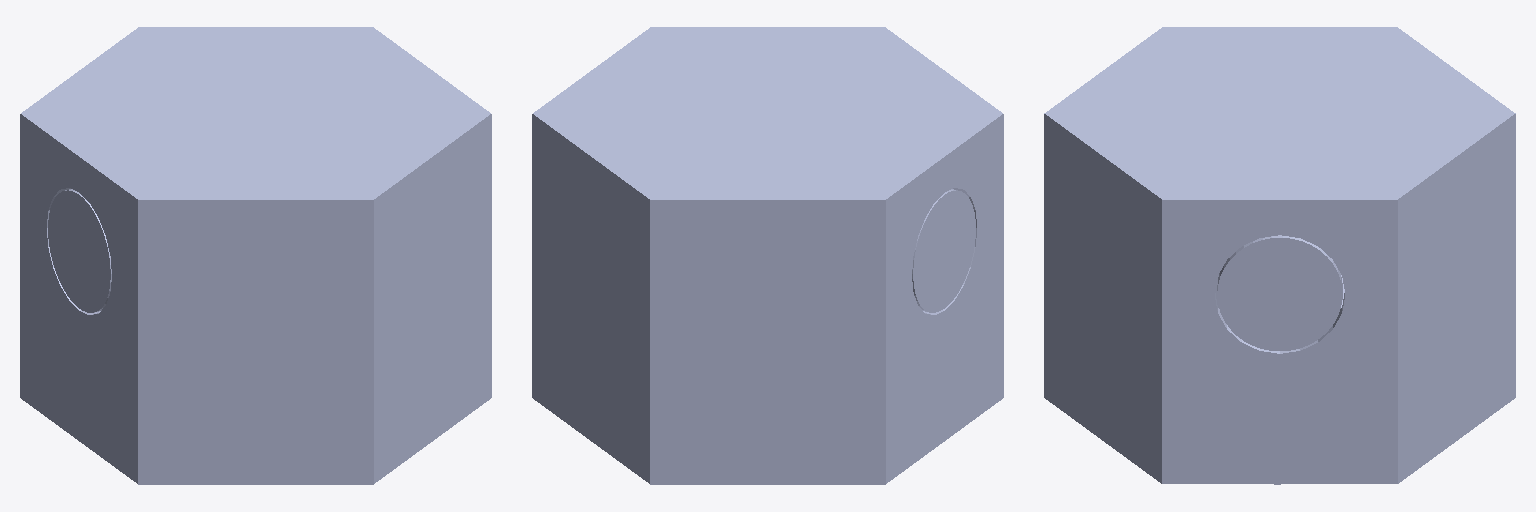
The robot description file, URDF, robot "Assem1.SLDASM":
<?xml version="1.0" encoding="utf-8"?>
<!-- This URDF was automatically created by SolidWorks to URDF Exporter! Originally created by Stephen Brawner (brawner@gmail.com) 
     Commit Version: 1.6.0-4-g7f85cfe  Build Version: 1.6.7995.38578
     For more information, please see http://wiki.ros.org/sw_urdf_exporter -->
<robot
  name="Assem1.SLDASM">
  <link
    name="base_link">
    <inertial>
      <origin
        xyz="-0.0389711431702996 -0.0357941197648907 0.0361229163502598"
        rpy="0 0 0" />
      <mass
        value="0.0574273352835146" />
      <inertia
        ixx="6.36405788919989E-05"
        ixy="-6.38209771093117E-20"
        ixz="-1.03933955422549E-20"
        iyy="5.98381182947465E-05"
        iyz="-3.76352627981E-21"
        izz="7.86534273855988E-05" />
    </inertial>
    <visual>
      <origin
        xyz="0 0 0"
        rpy="0 0 0" />
      <geometry>
        <mesh
          filename="package://Assem1.SLDASM/meshes/base_link.STL" />
      </geometry>
      <material
        name="">
        <color
          rgba="0.792156862745098 0.819607843137255 0.933333333333333 1" />
      </material>
    </visual>
    <collision>
      <origin
        xyz="0 0 0"
        rpy="0 0 0" />
      <geometry>
        <mesh
          filename="package://Assem1.SLDASM/meshes/base_link.STL" />
      </geometry>
    </collision>
  </link>
  <link
    name="wheel_link_1">
    <inertial>
      <origin
        xyz="1.01307850997046E-15 7.59808882477842E-16 -0.0122203174661168"
        rpy="0 0 0" />
      <mass
        value="0.0322480558900175" />
      <inertia
        ixx="5.00664219138574E-06"
        ixy="-2.36335127109963E-36"
        ixz="1.25338250291476E-20"
        iyy="5.00664219138573E-06"
        iyz="-3.79849766000684E-22"
        izz="6.79644492136784E-06" />
    </inertial>
    <visual>
      <origin
        xyz="0 0 0"
        rpy="0 0 0" />
      <geometry>
        <mesh
          filename="package://Assem1.SLDASM/meshes/wheel_link_1.STL" />
      </geometry>
      <material
        name="">
        <color
          rgba="0.792156862745098 0.819607843137255 0.933333333333333 1" />
      </material>
    </visual>
    <collision>
      <origin
        xyz="0 0 0"
        rpy="0 0 0" />
      <geometry>
        <mesh
          filename="package://Assem1.SLDASM/meshes/wheel_link_1.STL" />
      </geometry>
    </collision>
  </link>
  <joint
    name="wheel_joint_1"
    type="continuous">
    <origin
      xyz="-0.0504422863405982 -0.0357941197648905 0.019"
      rpy="-1.5707963267949 0 -1.5707963267949" />
    <parent
      link="base_link" />
    <child
      link="wheel_link_1" />
    <axis
      xyz="0 0 1" />
  </joint>
  <link
    name="connector_link_1">
    <inertial>
      <origin
        xyz="6.93889390390723E-18 -6.93889390390723E-18 -0.00150000000000017"
        rpy="0 0 0" />
      <mass
        value="0.00135716802635079" />
      <inertia
        ixx="4.98759249683916E-08"
        ixy="-6.35011624377447E-38"
        ixz="-3.36917686260086E-22"
        iyy="4.98759249683916E-08"
        iyz="9.07578526150396E-24"
        izz="9.77160978972571E-08" />
    </inertial>
    <visual>
      <origin
        xyz="0 0 0"
        rpy="0 0 0" />
      <geometry>
        <mesh
          filename="package://Assem1.SLDASM/meshes/connector_link_1.STL" />
      </geometry>
      <material
        name="">
        <color
          rgba="0.792156862745098 0.819607843137255 0.933333333333333 1" />
      </material>
    </visual>
    <collision>
      <origin
        xyz="0 0 0"
        rpy="0 0 0" />
      <geometry>
        <mesh
          filename="package://Assem1.SLDASM/meshes/connector_link_1.STL" />
      </geometry>
    </collision>
  </link>
  <joint
    name="connector_joint_1"
    type="continuous">
    <origin
      xyz="-0.0749422863405991 -0.0357941197648905 0.04"
      rpy="1.5707963267949 0 1.5707963267949" />
    <parent
      link="base_link" />
    <child
      link="connector_link_1" />
    <axis
      xyz="0 0 1" />
  </joint>
  <link
    name="connector_link_2">
    <inertial>
      <origin
        xyz="2.77555756156289E-17 -6.93889390390723E-18 -0.0015"
        rpy="0 0 0" />
      <mass
        value="0.00135716802635079" />
      <inertia
        ixx="4.98759249683916E-08"
        ixy="-1.24412434361125E-37"
        ixz="-6.55663503485308E-22"
        iyy="4.98759249683916E-08"
        iyz="9.075785261504E-24"
        izz="9.7716097897257E-08" />
    </inertial>
    <visual>
      <origin
        xyz="0 0 0"
        rpy="0 0 0" />
      <geometry>
        <mesh
          filename="package://Assem1.SLDASM/meshes/connector_link_2.STL" />
      </geometry>
      <material
        name="">
        <color
          rgba="0.792156862745098 0.819607843137255 0.933333333333333 1" />
      </material>
    </visual>
    <collision>
      <origin
        xyz="0 0 0"
        rpy="0 0 0" />
      <geometry>
        <mesh
          filename="package://Assem1.SLDASM/meshes/connector_link_2.STL" />
      </geometry>
    </collision>
  </link>
  <joint
    name="connector_joint_2"
    type="continuous">
    <origin
      xyz="0 -0.0357941197648913 0.04"
      rpy="1.5707963267949 0 1.5707963267949" />
    <parent
      link="base_link" />
    <child
      link="connector_link_2" />
    <axis
      xyz="0 0 1" />
  </joint>
  <link
    name="wheel_link_2">
    <inertial>
      <origin
        xyz="6.93889390390723E-18 -3.46944695195361E-18 -0.0122796825338838"
        rpy="0 0 0" />
      <mass
        value="0.0322480558900175" />
      <inertia
        ixx="5.00664219138574E-06"
        ixy="-3.96777558778301E-37"
        ixz="2.53003015816238E-22"
        iyy="5.00664219138573E-06"
        iyz="3.79849766000682E-22"
        izz="6.79644492136784E-06" />
    </inertial>
    <visual>
      <origin
        xyz="0 0 0"
        rpy="0 0 0" />
      <geometry>
        <mesh
          filename="package://Assem1.SLDASM/meshes/wheel_link_2.STL" />
      </geometry>
      <material
        name="">
        <color
          rgba="0.792156862745098 0.819607843137255 0.933333333333333 1" />
      </material>
    </visual>
    <collision>
      <origin
        xyz="0 0 0"
        rpy="0 0 0" />
      <geometry>
        <mesh
          filename="package://Assem1.SLDASM/meshes/wheel_link_2.STL" />
      </geometry>
    </collision>
  </link>
  <joint
    name="wheel_joint_2"
    type="continuous">
    <origin
      xyz="-0.00300000000000001 -0.0357941197648908 0.019"
      rpy="1.5707963267949 0 1.5707963267949" />
    <parent
      link="base_link" />
    <child
      link="wheel_link_2" />
    <axis
      xyz="0 0 1" />
  </joint>
</robot>

--- What the picture shows (computed from the rendered views, not written in the file) ---
The picture shows the robot from 3 angles, left to right: view 1: azimuth 30°, elevation 25°; view 2: azimuth 150°, elevation 25°; view 3: azimuth 270°, elevation 25°; orthographic projection.
Robot: Assem1.SLDASM — 5 links, 4 joints (4 continuous); root link base_link; default pose: all joints at 0.
Visible links, largest first — view 1: base_link, connector_link_1; view 2: base_link, connector_link_1; view 3: base_link, connector_link_2.
Link boxes in pixels (x1,y1,x2,y2): base_link: [20, 27, 491, 484]; connector_link_1: [48, 189, 111, 312]; base_link: [532, 27, 1003, 484]; connector_link_1: [912, 189, 975, 312]; base_link: [1044, 27, 1515, 483]; connector_link_2: [1217, 235, 1342, 350].
Bounding box of the posed robot: 0.0779 × 0.09 × 0.0615 m (x, y, z).
Meshes: 5 distinct files referenced, 5 mesh visuals loaded (5 binary STL).
